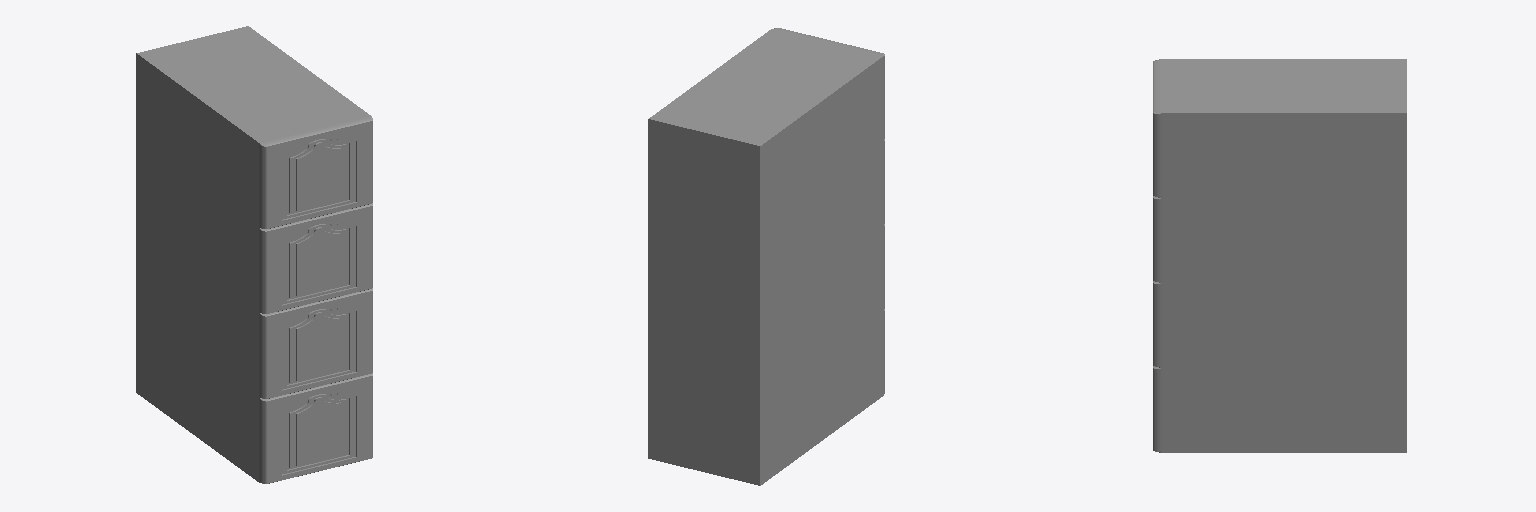
Rendered from drawer-pack-300.obj.
3 renders of one model, left to right at view 1: azimuth 30°, elevation 25°; view 2: azimuth 150°, elevation 25°; view 3: azimuth 270°, elevation 25°, orthographic.
Parts seen in each view (by area): view 1: Cube.002_Cube.004, Cube_Cube.002, Cube.006_Cube.005, Cube.003_Cube.008, Cube.005_Cube.001, Cube.004_Cube.000, Cube.001_Cube.003; view 2: Cube_Cube.002, Cube.002_Cube.004, Cube.001_Cube.003; view 3: Cube.001_Cube.003, Cube_Cube.002, Cube.006_Cube.005, Cube.003_Cube.008, Cube.004_Cube.000, Cube.005_Cube.001, Cube.002_Cube.004.
Part boxes in pixels (x1,y1,x2,y2): Cube.002_Cube.004: (136,52,263,481); Cube_Cube.002: (143,27,364,141); Cube.006_Cube.005: (259,116,372,228); Cube.003_Cube.008: (259,373,372,483); Cube.005_Cube.001: (259,203,372,313); Cube.004_Cube.000: (259,288,372,398); Cube.001_Cube.003: (243,26,370,116); Cube_Cube.002: (654,31,876,484); Cube.002_Cube.004: (755,55,882,485); Cube.001_Cube.003: (648,29,776,459); Cube.001_Cube.003: (1162,111,1406,452); Cube_Cube.002: (1162,62,1406,110); Cube.006_Cube.005: (1153,59,1161,197); Cube.003_Cube.008: (1153,366,1161,452); Cube.004_Cube.000: (1153,281,1161,367); Cube.005_Cube.001: (1153,196,1161,282); Cube.002_Cube.004: (1162,59,1406,61).
Bounding box in the file's own units: 60 × 174 × 118.